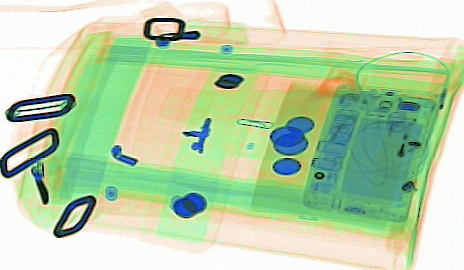lighter: (371, 108, 416, 176)
